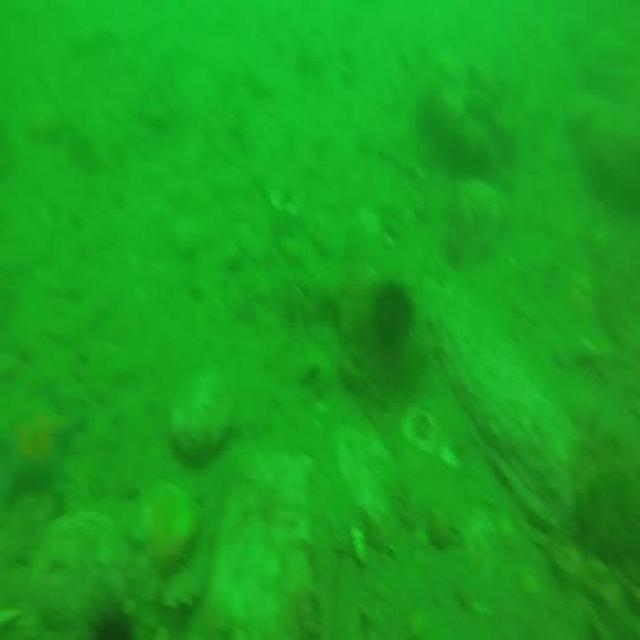echinus: (369, 276, 419, 356), (88, 605, 142, 640)
scallop: (400, 409, 442, 454)
starfish: (6, 384, 84, 515)
